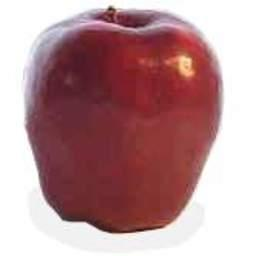apple: (21, 6, 224, 233)
